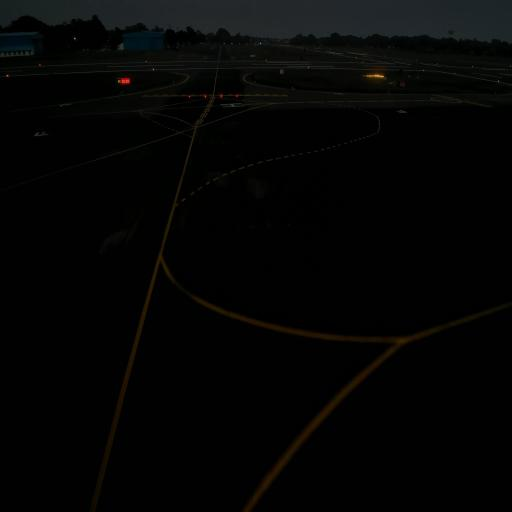on: (219, 93, 223, 100), (235, 93, 239, 100), (188, 93, 192, 99), (203, 94, 207, 100)
